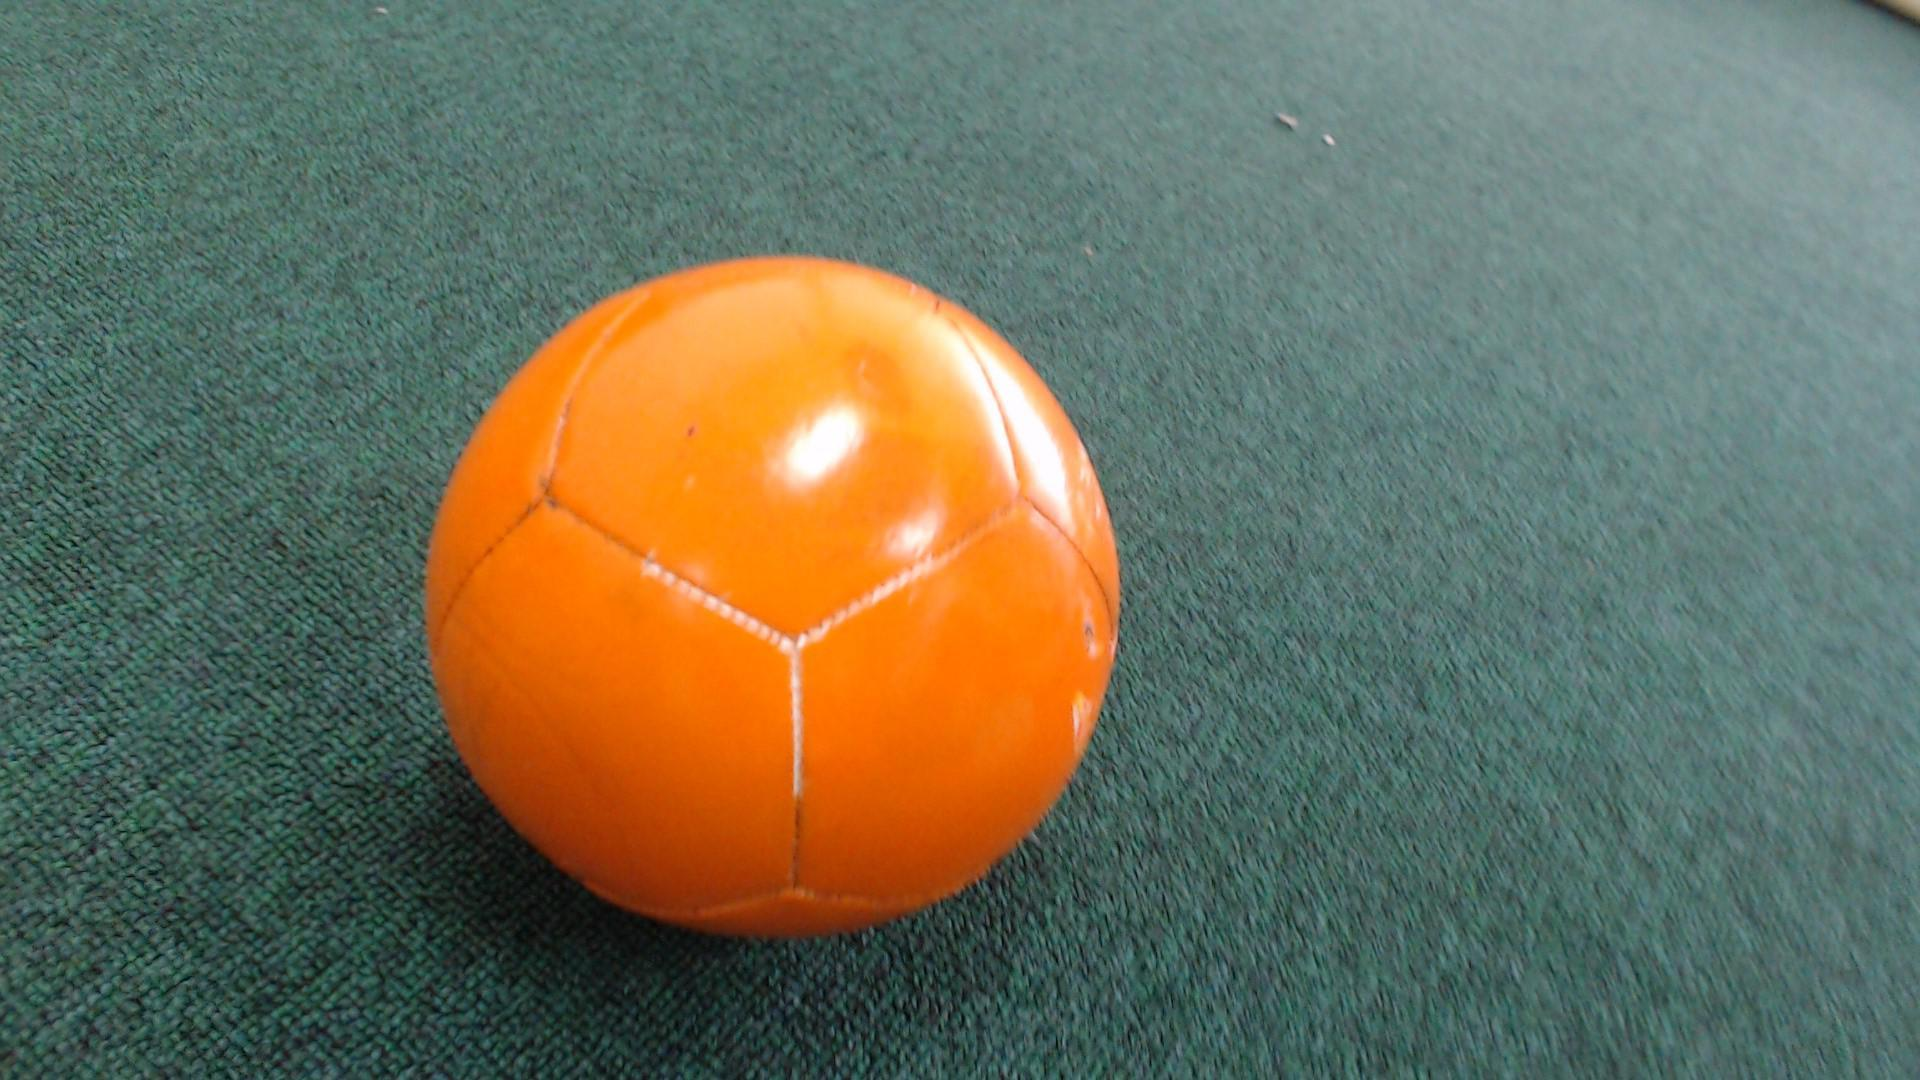bola: (400, 243, 1158, 975)
